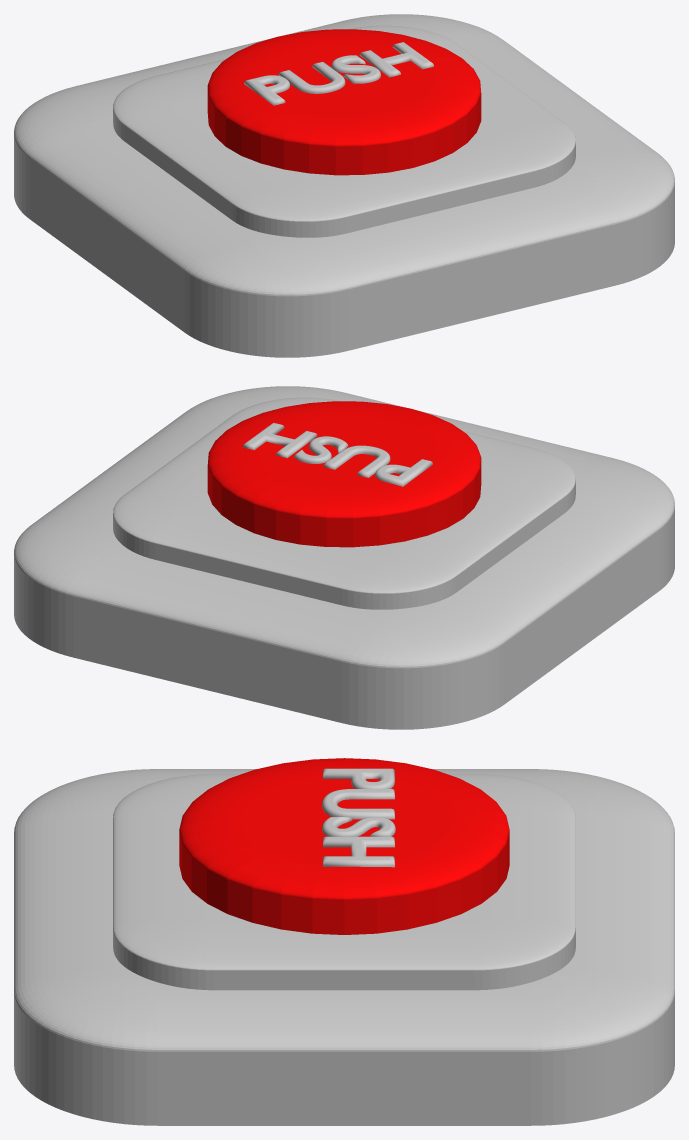
File: buzzer.obj
3 renders of one model, top to bottom at view 1: azimuth 30°, elevation 25°; view 2: azimuth 150°, elevation 25°; view 3: azimuth 270°, elevation 25°, orthographic. The views are drawn at different scales.
Parts seen in each view (by area): view 1: Cube.002, Cube.001, Cylinder, Text; view 2: Cube.002, Cube.001, Cylinder, Text; view 3: Cube.002, Cube.001, Cylinder, Text.
Boxes of the visible parts, x1=… form: Cube.002: x1=14, y1=14, x2=674, y2=357; Cube.001: x1=113, y1=25, x2=575, y2=237; Cylinder: x1=207, y1=29, x2=481, y2=175; Text: x1=244, y1=42, x2=433, y2=105; Cube.002: x1=14, y1=386, x2=674, y2=729; Cube.001: x1=113, y1=397, x2=575, y2=609; Cylinder: x1=207, y1=401, x2=481, y2=547; Text: x1=243, y1=423, x2=432, y2=486; Cube.002: x1=14, y1=769, x2=674, y2=1125; Cube.001: x1=113, y1=774, x2=575, y2=990; Cylinder: x1=179, y1=758, x2=509, y2=934; Text: x1=322, y1=768, x2=395, y2=867.
Bounding box in the file's own units: 10 × 2.87 × 10.
